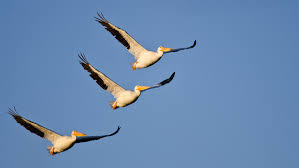pelican: (95, 12, 198, 68), (77, 53, 177, 109), (7, 106, 121, 154)
